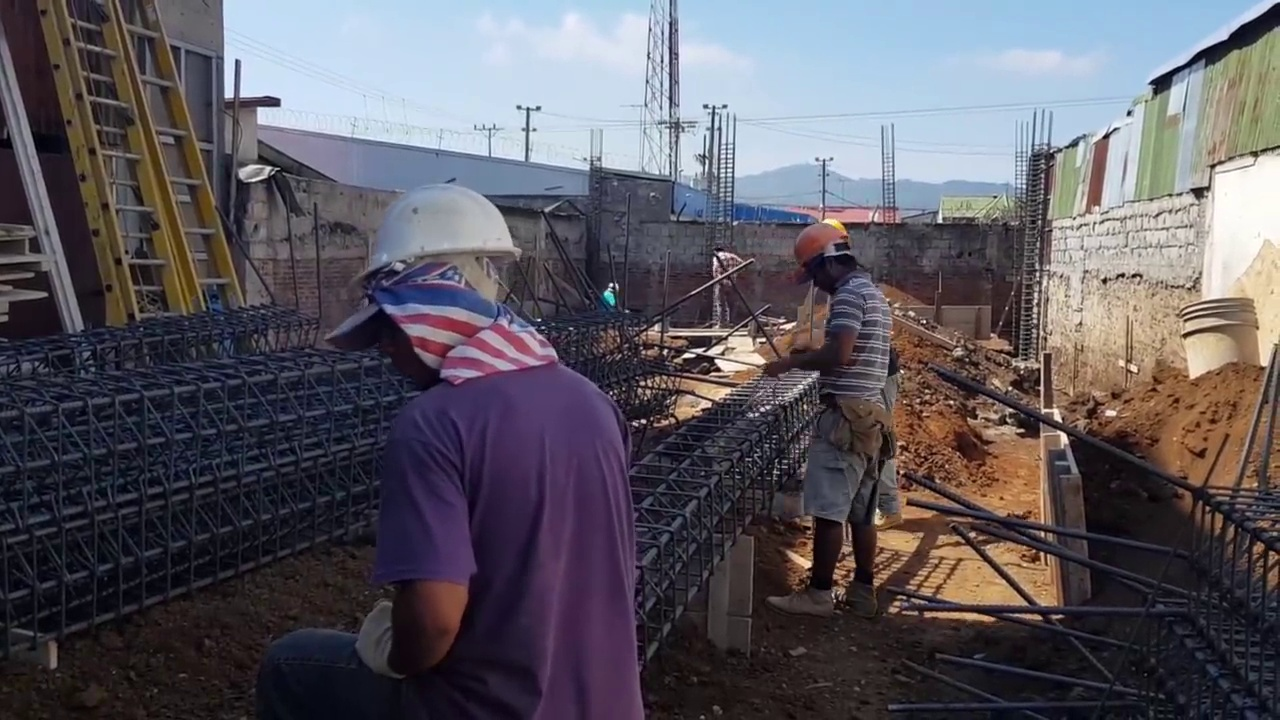helmet: (360, 171, 523, 287), (792, 222, 853, 274), (608, 282, 622, 293)
helmet-off: (709, 242, 726, 258)
helmet-on: (356, 177, 518, 375), (792, 223, 856, 293), (605, 281, 622, 295)
person: (336, 177, 637, 720), (780, 209, 891, 634), (709, 243, 746, 331), (598, 279, 623, 311)
